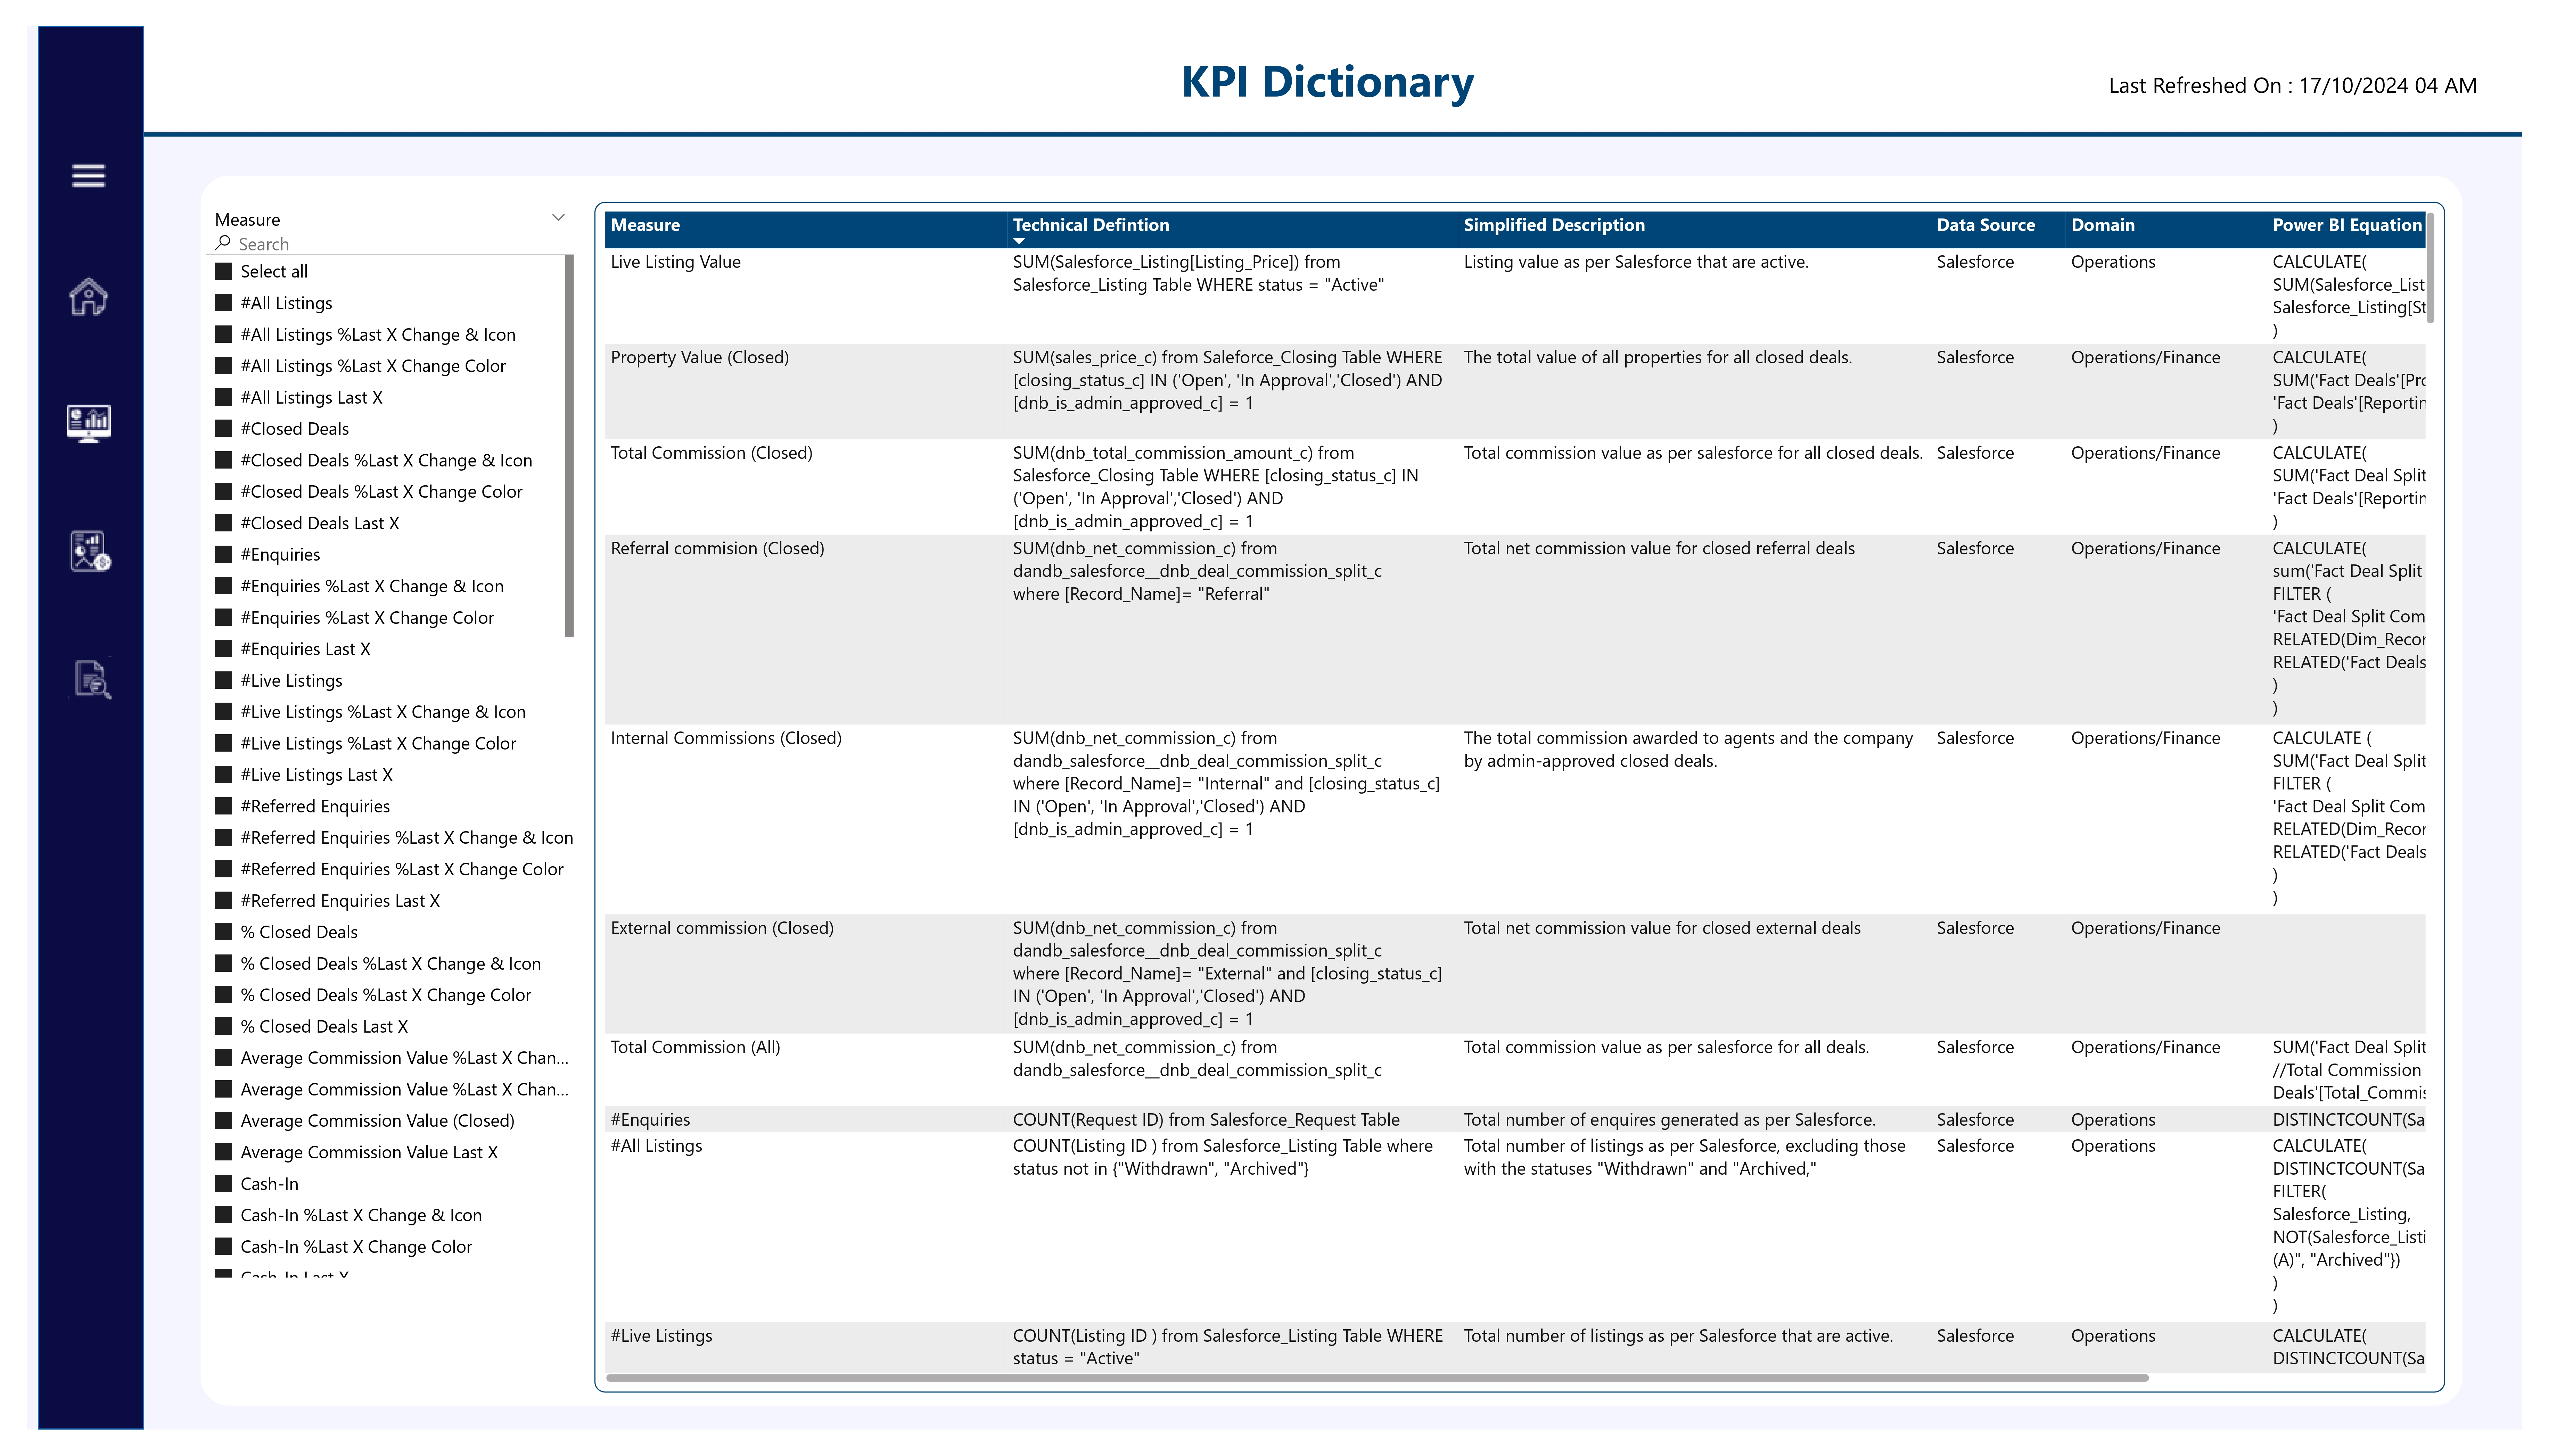

This screenshot's page, from the dashboard's own definition file:
{"tool":"powerbi","page":{"name":"Glossary","canvas":[1280,720],"ordinal":3},"visuals":[{"type":"textbox","box":[0,0,1280,50.7],"z":0},{"type":"shape","box":[0,0,75.7,1294.3],"z":1000},{"type":"actionButton","box":[15.7,50,50,51.4],"z":2000},{"type":"actionButton","box":[15.7,111.4,51.4,50],"z":3000},{"type":"actionButton","box":[15.7,177.1,51.4,50],"z":4000},{"type":"actionButton","box":[15.7,247.1,51.4,50],"z":5000},{"type":"tableEx","fields":{"Values":["KPI Definitions.Measure Name","KPI Definitions.Expression"]},"box":[425.7,52.9,854.3,667.1],"z":6000},{"type":"slicer","fields":{"Values":["KPI Definitions.Measure Name"]},"box":[75.7,52.9,351.4,667.1],"z":7000}]}

Visuals, with their boxes on the page's 1280x720 design canvas (x1, y1, x2, y2). These are canvas units, not pixel positions in the 2549x1456 screenshot, which may show the page scaled, cropped or inside an application window:
textbox: box(0, 0, 1280, 51)
shape: box(0, 0, 76, 1294)
actionButton: box(16, 50, 66, 101)
actionButton: box(16, 111, 67, 161)
actionButton: box(16, 177, 67, 227)
actionButton: box(16, 247, 67, 297)
tableEx - KPI Definitions.Measure Name x KPI Definitions.Expression: box(426, 53, 1280, 720)
slicer - KPI Definitions.Measure Name: box(76, 53, 427, 720)
